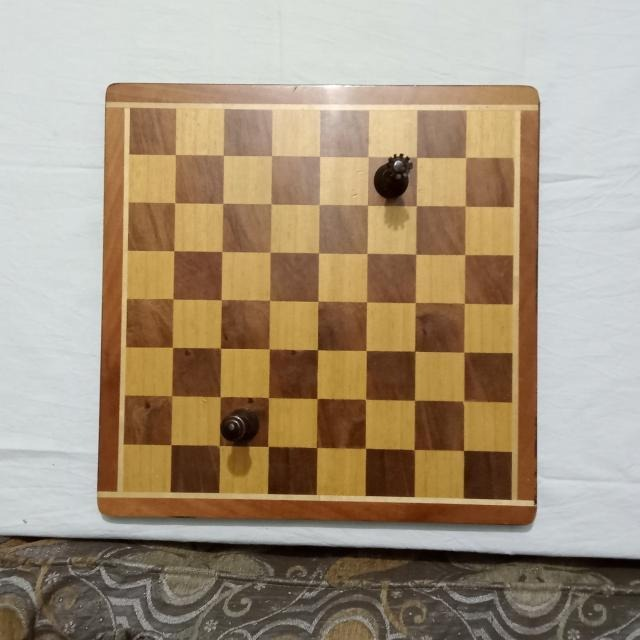black-king: (219, 407, 261, 445)
black-queen: (372, 150, 412, 198)
